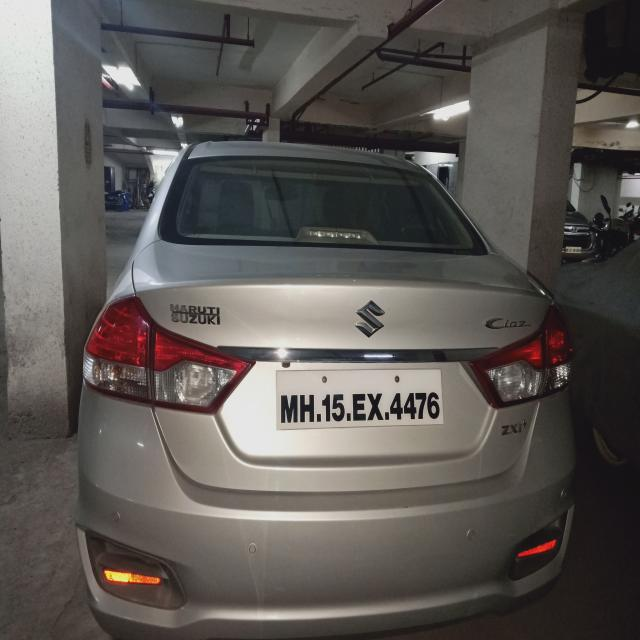Number-Plate: (279, 368, 444, 426)
